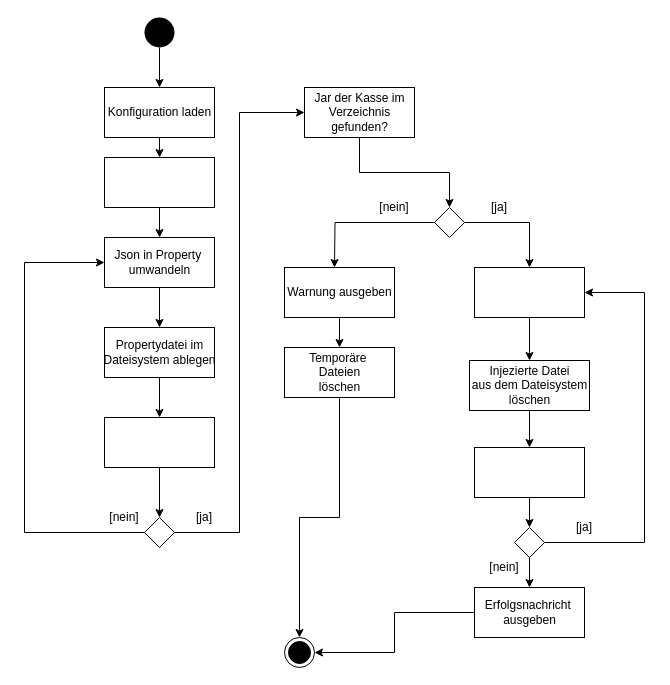
The diagram is 670 pixels wide and 685 high, and some of its shapes have lost their labels. Here are the shapes that lost their labels. From the top down, the box of each, then its label:
(104, 156, 214, 208): Übersetzungsdaten laden
(474, 266, 584, 318): Propertydatei injezieren
(104, 416, 214, 468): alle Jsons umgewandelt?
(474, 446, 584, 498): Weitere Dateien vorhanden?
